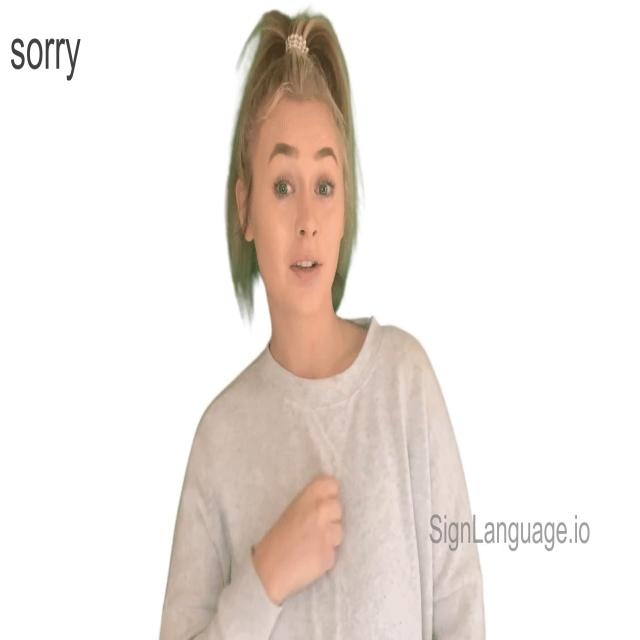sorry: (242, 471, 350, 600)
